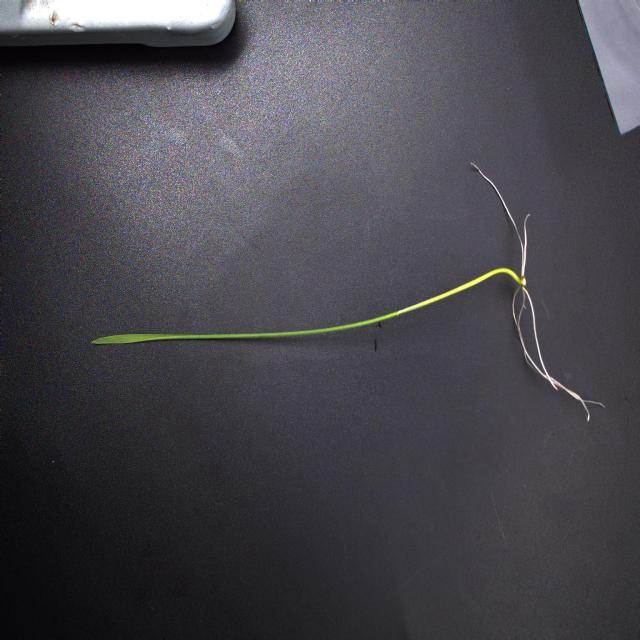leaf: (93, 310, 397, 346)
root: (470, 162, 588, 418)
stem: (395, 267, 523, 315)
